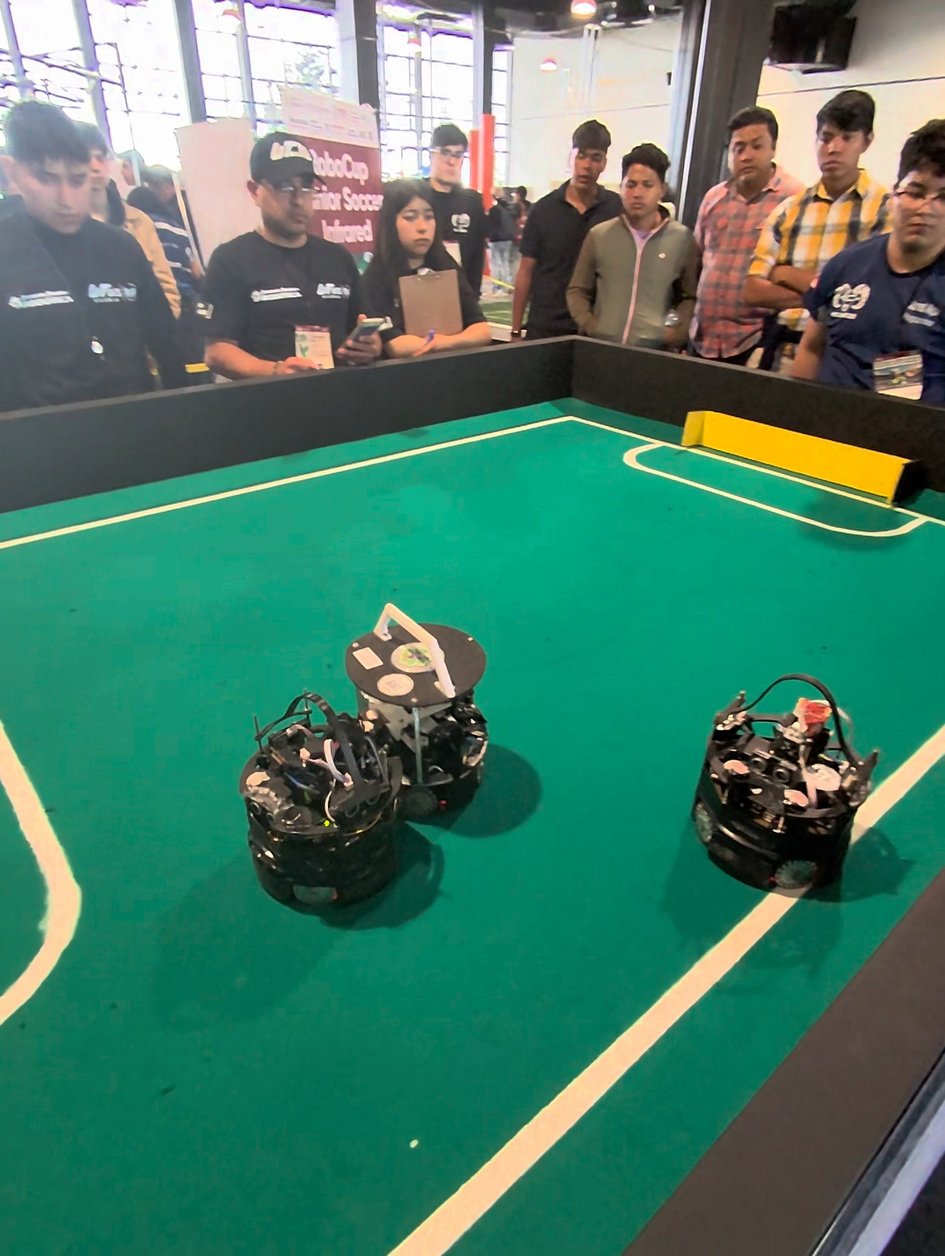Robot: (698, 656, 889, 903), (237, 676, 410, 928), (334, 621, 504, 810)
